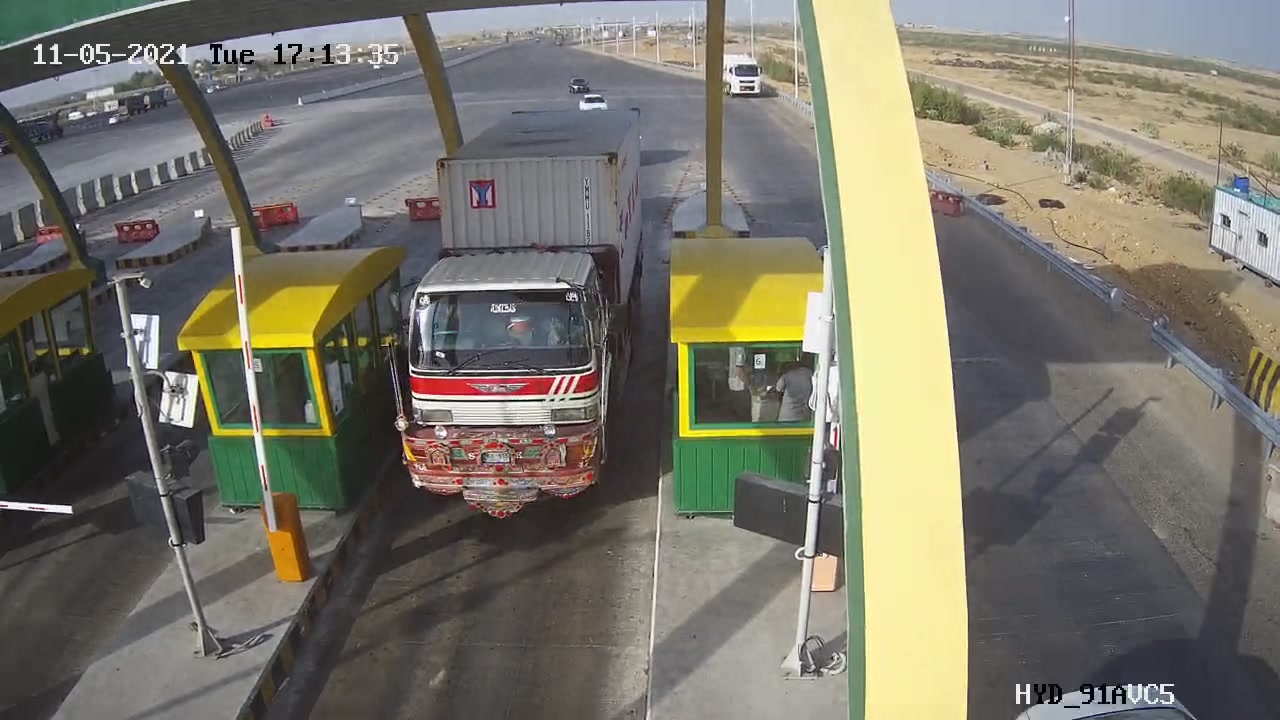F6: (361, 100, 668, 534)
